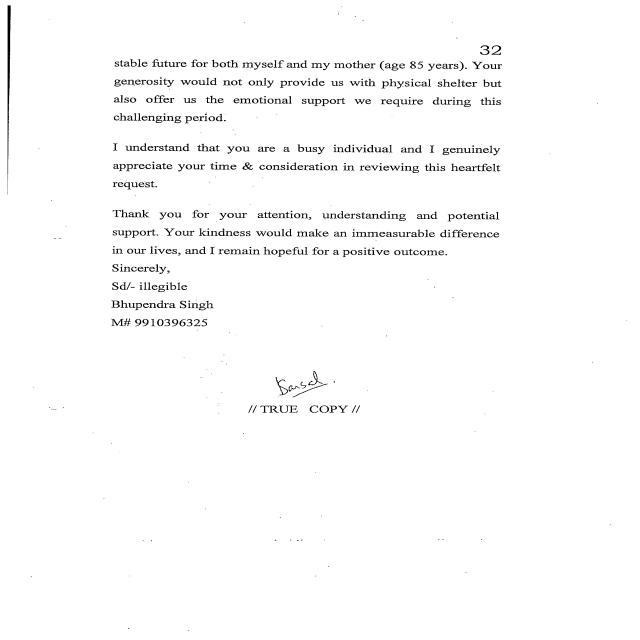page-number: (317, 0, 640, 60)
